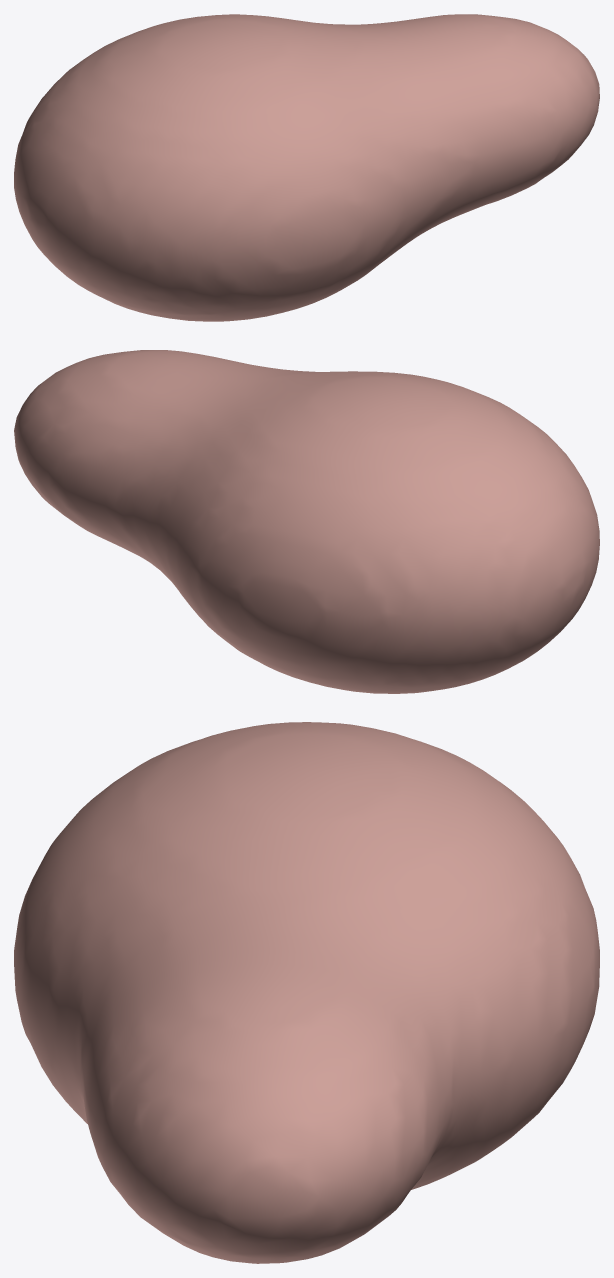
The model's file is organ-liver.glb.
3 renders of one model, top to bottom at view 1: azimuth 30°, elevation 25°; view 2: azimuth 150°, elevation 25°; view 3: azimuth 270°, elevation 25°, orthographic. The views are drawn at different scales.
Parts seen in each view (by area): view 1: world; view 2: world; view 3: world.
Part boxes in pixels (box(x1,y1,x2,y2)): world: box(14, 14, 599, 321); world: box(14, 350, 599, 693); world: box(14, 722, 599, 1263).
Size of the model in its own units: 0.4005 by 0.1838 by 0.2471.
